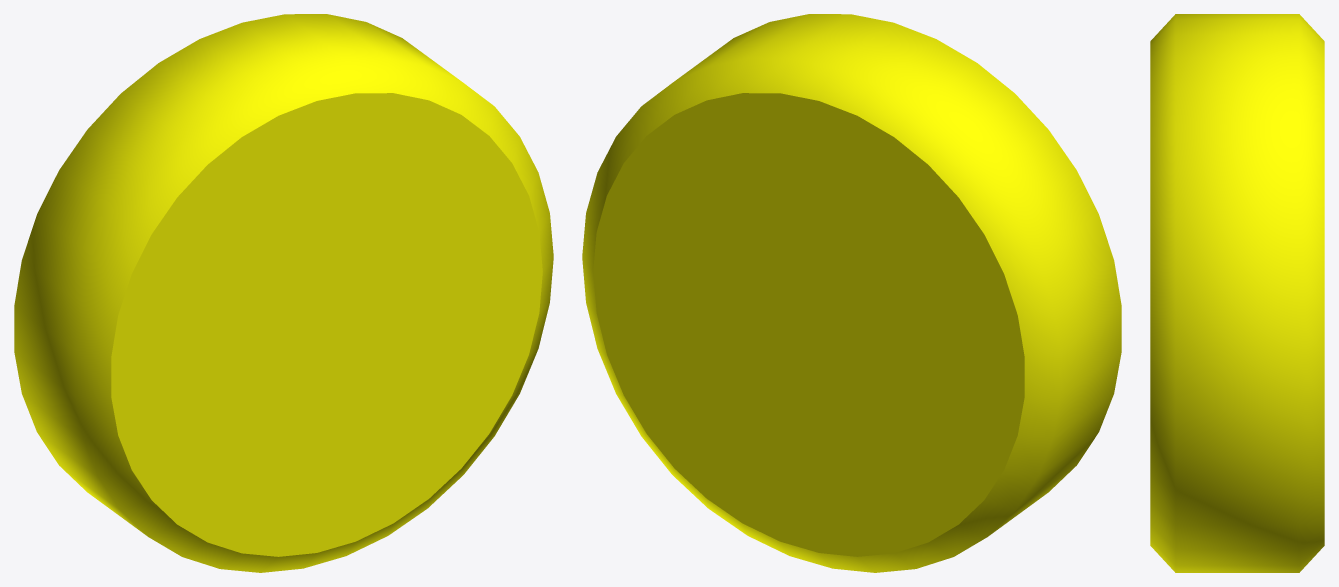
3 renders of one model, left to right at view 1: azimuth 30°, elevation 25°; view 2: azimuth 150°, elevation 25°; view 3: azimuth 270°, elevation 25°, orthographic.
Parts seen in each view (by area): view 1: coin; view 2: coin; view 3: coin.
Boxes of the visible parts, x1,y1,x2,y2 form: coin: (14,14,553,572); coin: (582,14,1121,572); coin: (1150,14,1324,572).
Size of the model in its own units: 0.3185 by 0.3188 by 0.0995.
1 material, 1 textured.
